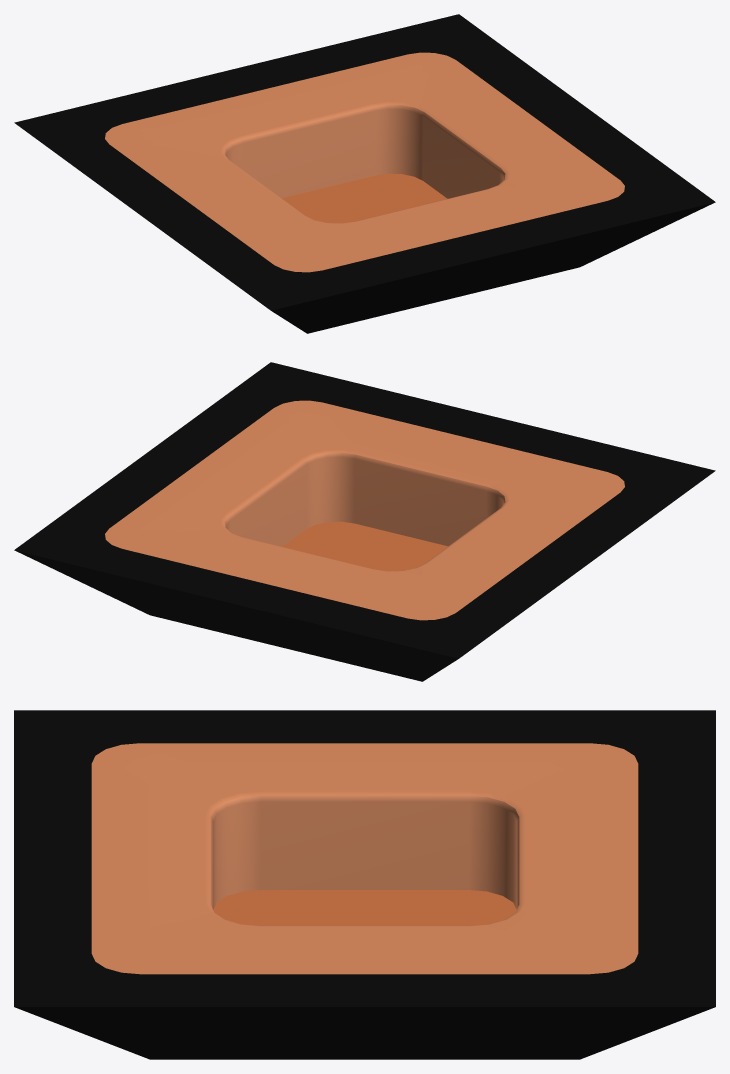
File: Cell_Orange_V3.fbx
The picture shows the model from 3 angles, top to bottom: view 1: azimuth 30°, elevation 25°; view 2: azimuth 150°, elevation 25°; view 3: azimuth 270°, elevation 25°; orthographic projection. The views are drawn at different scales.
Visible parts, largest first — view 1: Tile_Orange, Cell_Border; view 2: Tile_Orange, Cell_Border; view 3: Tile_Orange, Cell_Border.
Boxes of the visible parts, x1,y1,x2,y2 form: Tile_Orange: [105, 52, 624, 272]; Cell_Border: [14, 14, 715, 333]; Tile_Orange: [105, 400, 624, 620]; Cell_Border: [14, 362, 715, 681]; Tile_Orange: [91, 743, 638, 974]; Cell_Border: [14, 710, 715, 1059].
Bounding box in the file's own units: 112 × 19.36 × 112.
